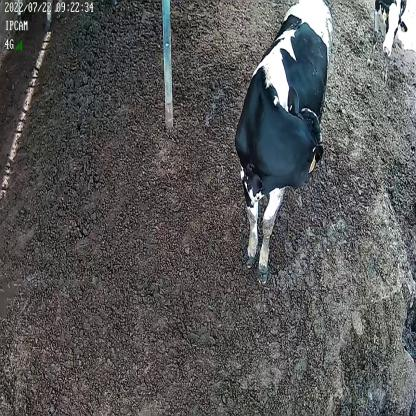cow: (232, 0, 334, 281)
